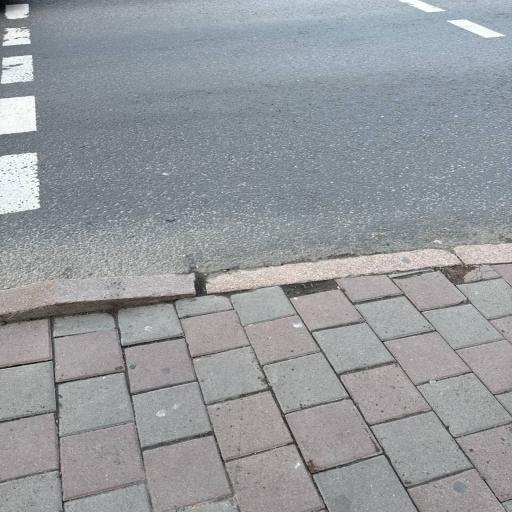closet: (0, 0, 511, 285)
